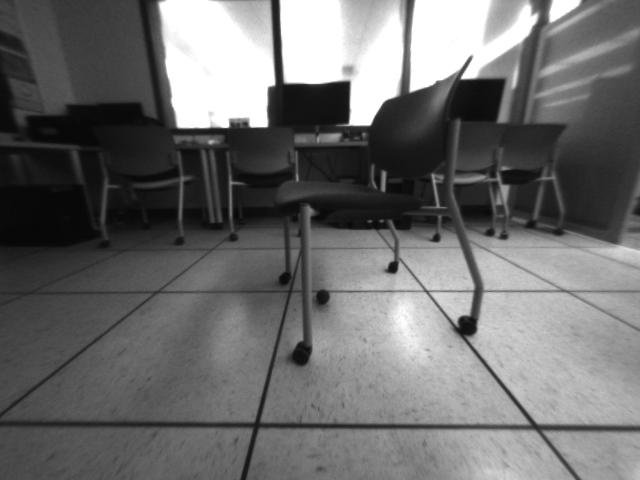dogtoy: (310, 282, 336, 308)
